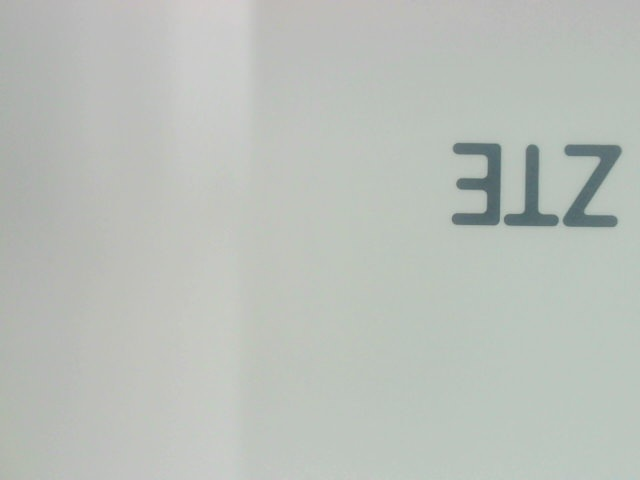AN_ZTELarge: (435, 128, 636, 236)
